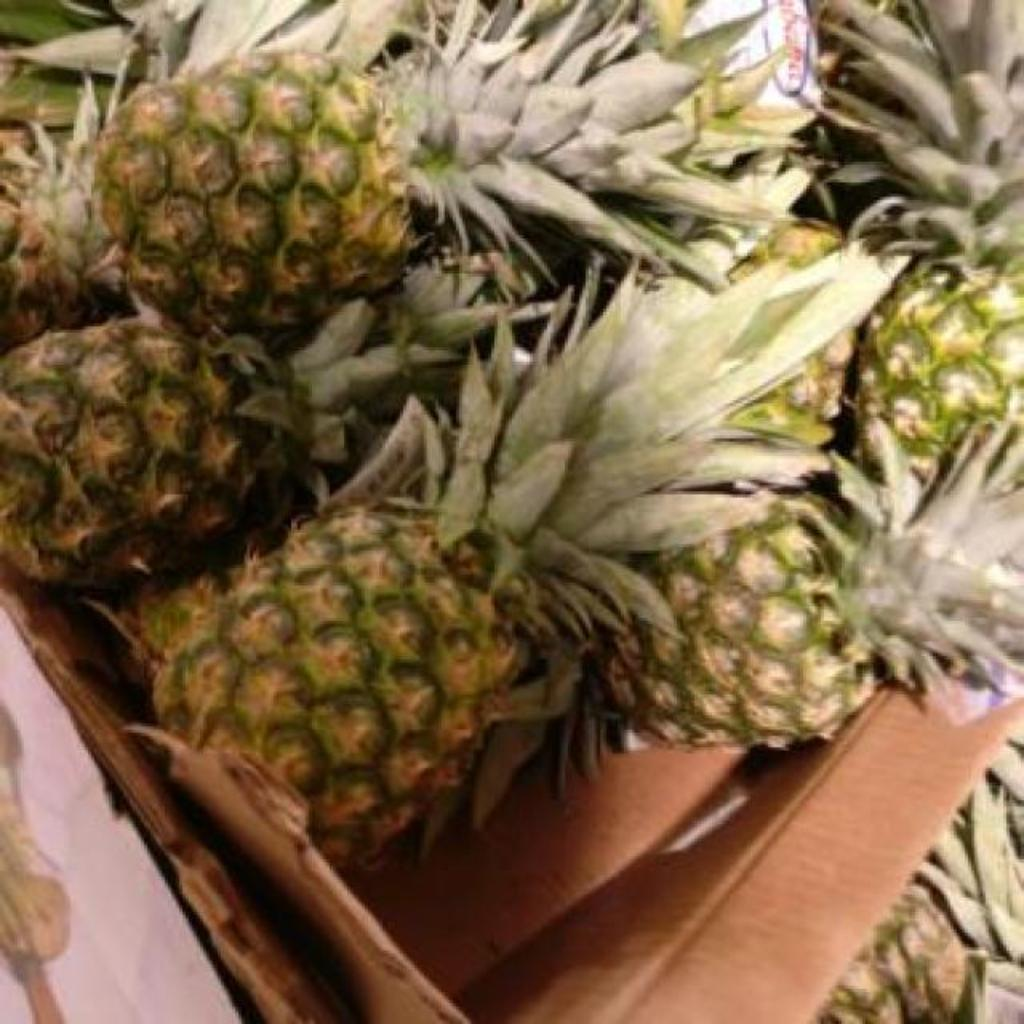pineapple: (134, 248, 903, 860), (98, 0, 806, 334), (0, 264, 534, 587), (626, 426, 1024, 745), (820, 0, 1024, 495)
